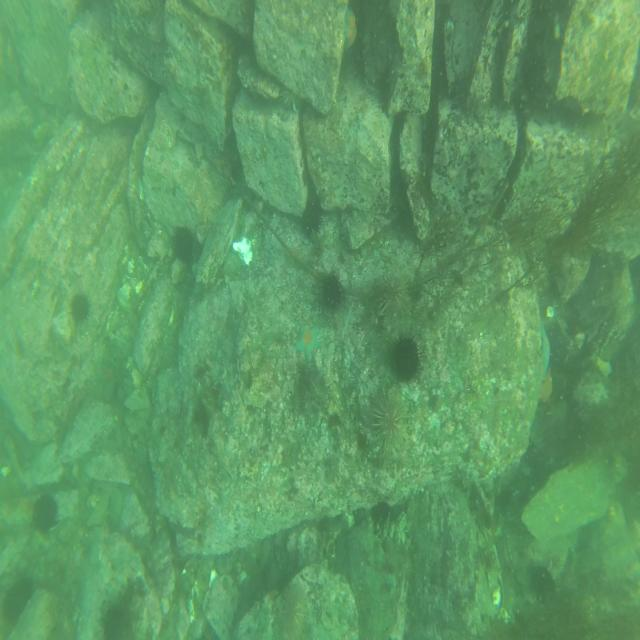echinus: (372, 388, 406, 449), (278, 583, 311, 640), (377, 270, 411, 325), (388, 333, 422, 386), (318, 267, 346, 315), (32, 493, 60, 535), (530, 559, 555, 601), (171, 223, 193, 265), (70, 290, 92, 328)
starfish: (296, 321, 323, 366), (96, 354, 119, 389), (538, 323, 552, 372), (344, 5, 358, 52)
